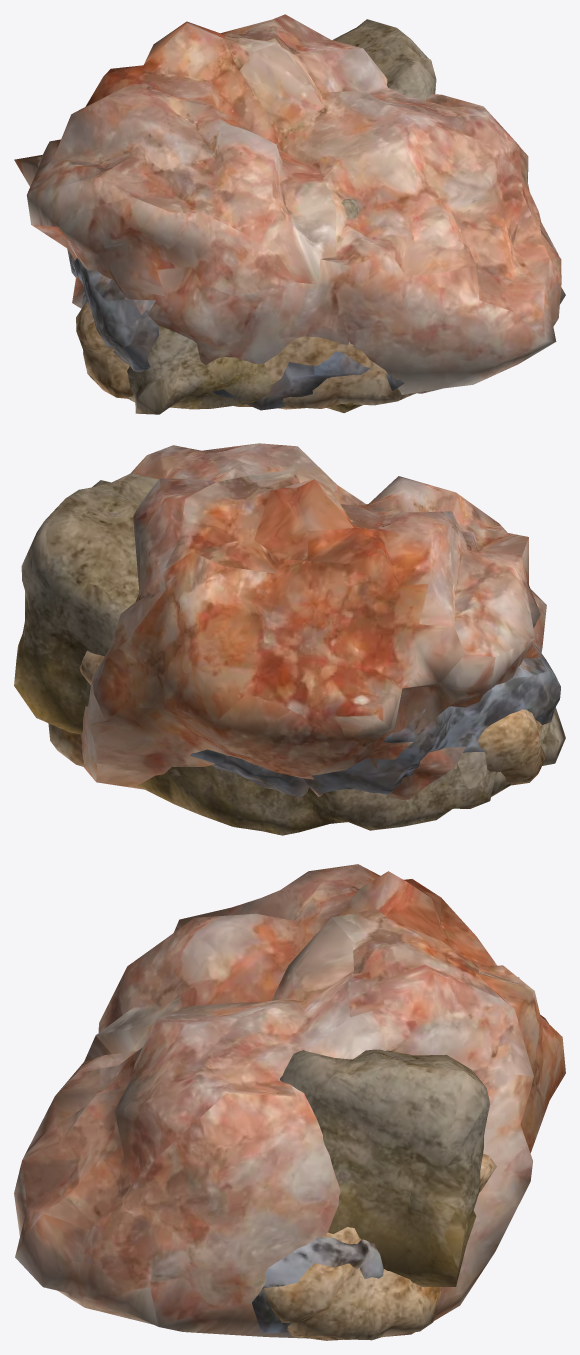
Rendered from namaqualand_rocks_01.glb.
The picture shows the model from 3 angles, top to bottom: view 1: azimuth 30°, elevation 25°; view 2: azimuth 150°, elevation 25°; view 3: azimuth 270°, elevation 25°; orthographic projection. The views are drawn at different scales.
Parts seen in each view (by area): view 1: namaqualand_rocks_01_a, namaqualand_rocks_01_d, namaqualand_rocks_01_c, namaqualand_rocks_01_b; view 2: namaqualand_rocks_01_a, namaqualand_rocks_01_d, namaqualand_rocks_01_c, namaqualand_rocks_01_b; view 3: namaqualand_rocks_01_a, namaqualand_rocks_01_d, namaqualand_rocks_01_b, namaqualand_rocks_01_c.
Boxes of the visible parts, x1,y1,x2,y2 form: namaqualand_rocks_01_a: (14, 14, 565, 394); namaqualand_rocks_01_d: (83, 19, 436, 414); namaqualand_rocks_01_c: (67, 249, 441, 410); namaqualand_rocks_01_b: (76, 301, 417, 409); namaqualand_rocks_01_a: (81, 443, 546, 799); namaqualand_rocks_01_d: (14, 473, 565, 835); namaqualand_rocks_01_c: (190, 645, 560, 796); namaqualand_rocks_01_b: (48, 650, 546, 785); namaqualand_rocks_01_a: (14, 864, 565, 1339); namaqualand_rocks_01_d: (280, 1049, 490, 1287); namaqualand_rocks_01_b: (263, 1153, 496, 1340); namaqualand_rocks_01_c: (252, 1237, 383, 1333).
Bounding box in the file's own units: 0.228 × 0.153 × 0.2155.
1 material, 1 textured.
